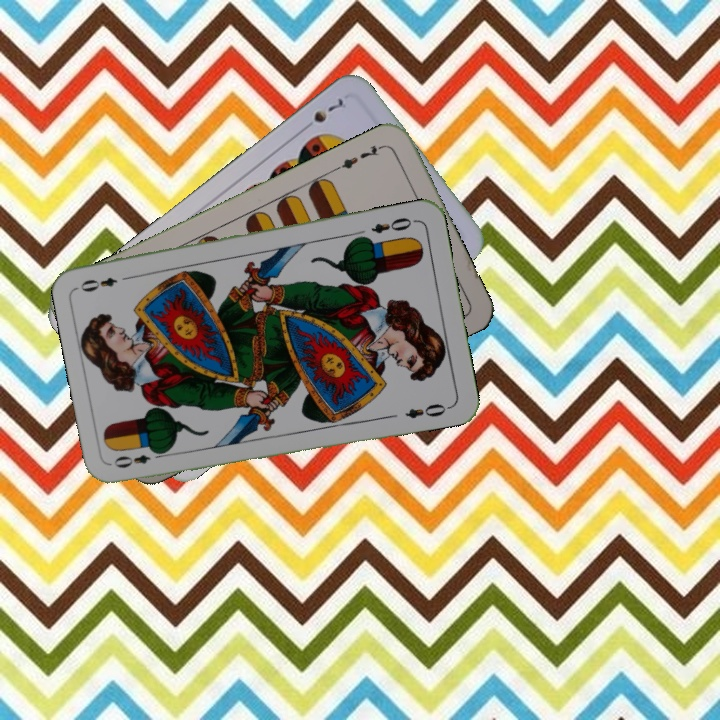E7: (332, 140, 387, 173)
EO: (109, 446, 168, 471), (367, 213, 419, 236)
S7: (298, 94, 349, 134)
